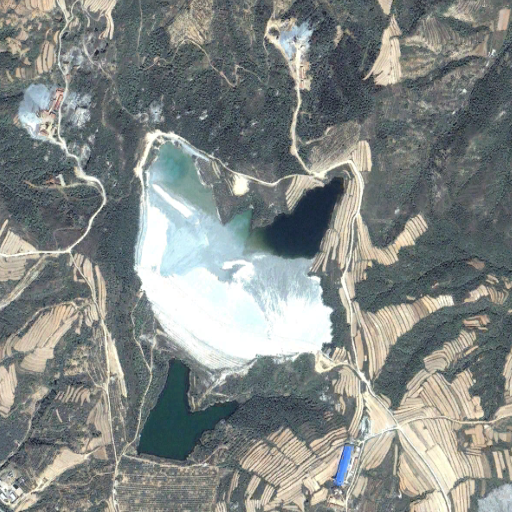tp: (136, 128, 361, 367)
